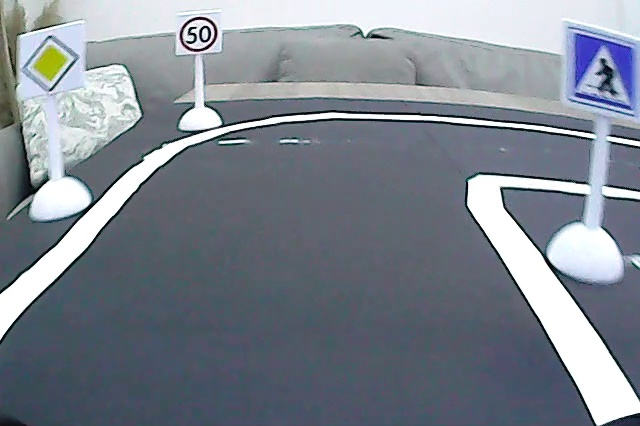pedestrian crossing: (565, 25, 640, 113)
speed limit 50: (176, 15, 219, 51)
